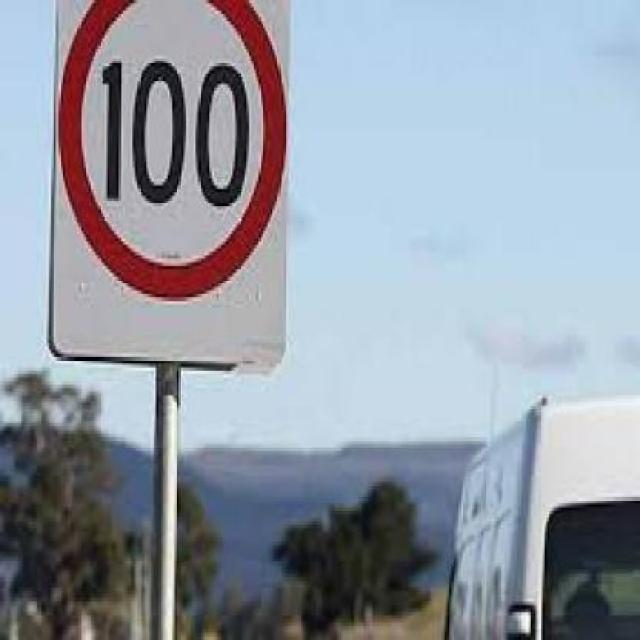forb_speed_over_100: (62, 1, 286, 297)
